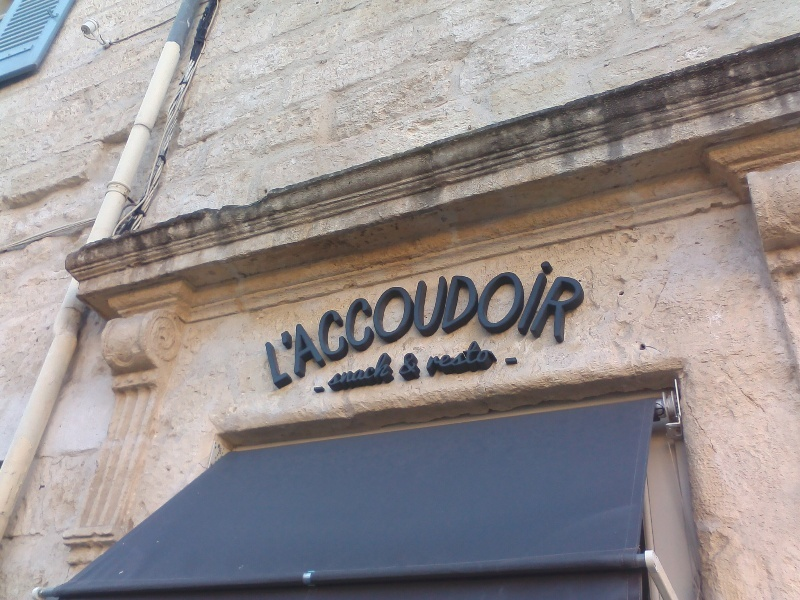text: (257, 253, 272, 389), (273, 253, 288, 389), (289, 253, 304, 389), (305, 253, 320, 389), (321, 253, 336, 389), (337, 253, 352, 389), (353, 253, 368, 389), (369, 253, 384, 389), (385, 253, 400, 389), (401, 253, 416, 389), (417, 253, 432, 389), (433, 253, 448, 389), (449, 253, 464, 389), (465, 253, 480, 389), (481, 253, 496, 389), (497, 253, 512, 389), (513, 253, 528, 389), (529, 253, 544, 389), (545, 253, 560, 389), (561, 253, 576, 389), (577, 253, 589, 389), (245, 253, 256, 389), (337, 349, 352, 391), (353, 349, 368, 391), (369, 349, 384, 391), (433, 337, 448, 377), (449, 337, 464, 377), (465, 337, 480, 377), (481, 337, 496, 377), (401, 352, 416, 384), (327, 349, 336, 391), (385, 349, 394, 391), (417, 352, 422, 384), (429, 337, 432, 377), (398, 352, 400, 384)
